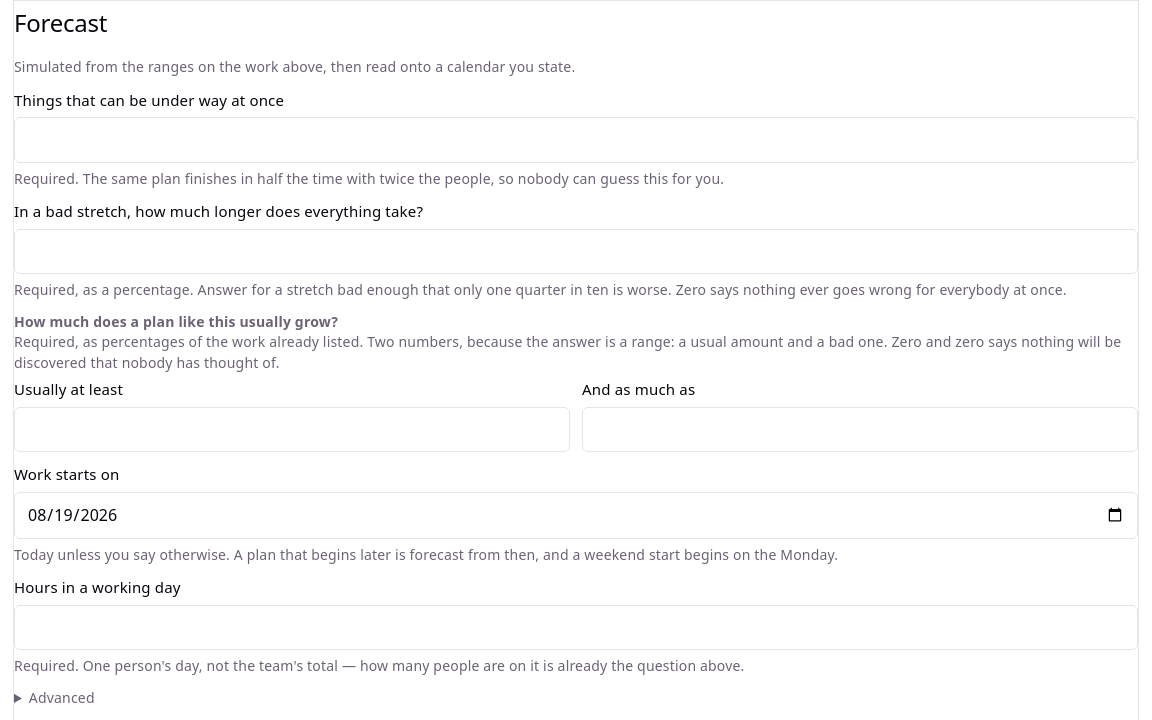
Test: ForecastPanel › shows the refusal when nobody has estimated anything
Expected: the heading "Forecast" is shown, top-left (14, 6), bottom-right (107, 39)
Type "1" into the number field labelled "Things that can be under way at once" at (576, 140), box top-left (14, 117), bottom-right (1138, 163)
(page scrolled)
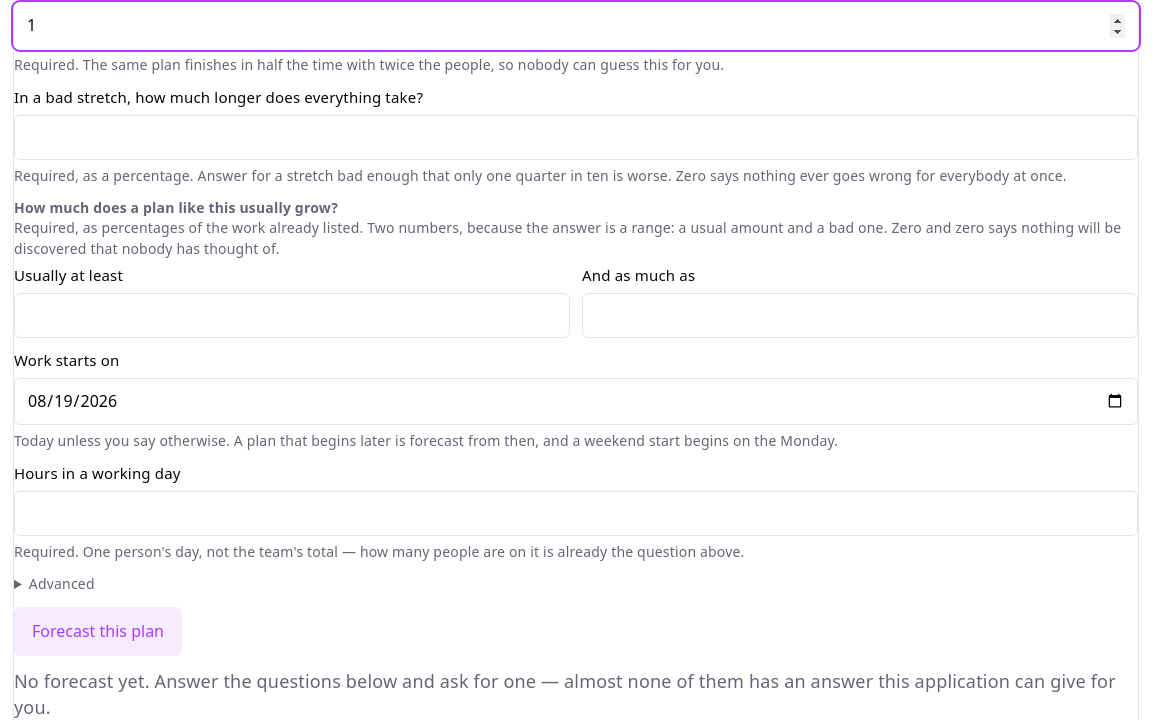
Click the button "Forecast this plan" at (98, 631), box top-left (14, 607), bottom-right (182, 656)
(page scrolled)
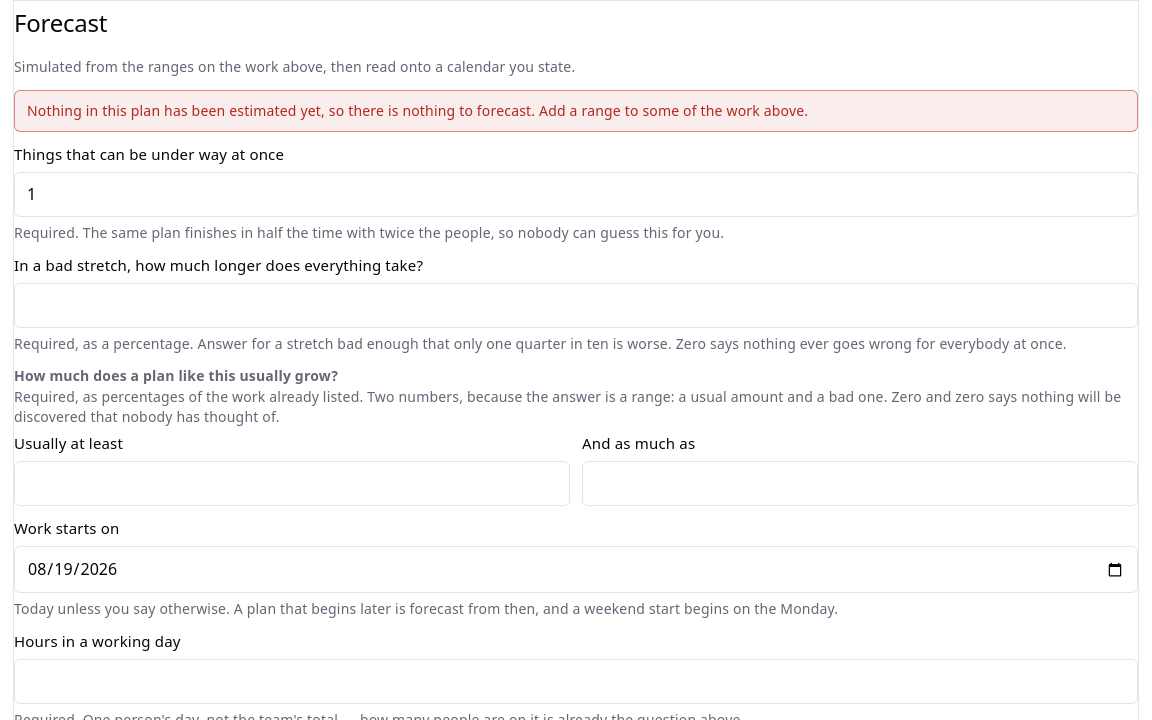
Expected: the text "Nothing in this plan has been estimated yet, so there is nothing to forecast. Add a range to some of the work above." is shown, top-left (27, 101), bottom-right (808, 120)
